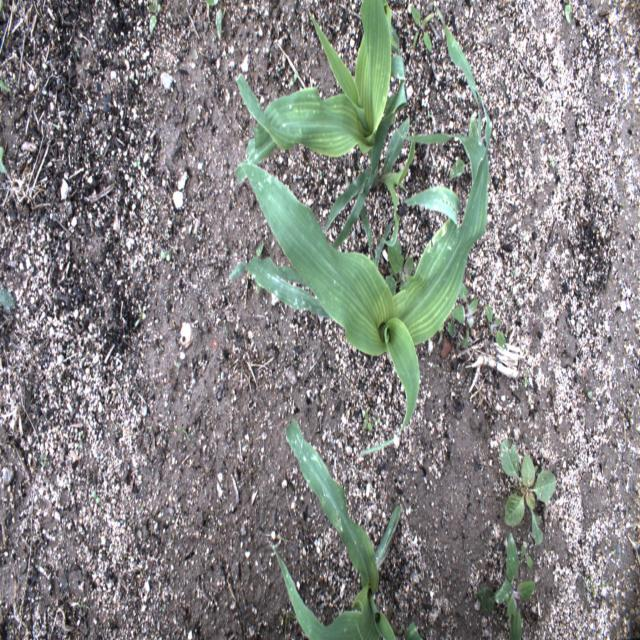crop: (228, 1, 492, 454), (234, 1, 417, 256), (270, 418, 423, 639)
weed: (475, 533, 535, 639), (499, 440, 556, 544), (449, 114, 492, 182), (451, 277, 478, 350), (382, 238, 413, 299), (410, 6, 434, 56), (484, 304, 508, 350), (579, 571, 612, 599), (204, 0, 221, 40), (436, 312, 456, 345), (278, 609, 298, 638), (255, 243, 264, 295), (149, 0, 161, 35), (168, 426, 191, 443), (385, 604, 397, 634), (0, 288, 15, 311), (134, 303, 147, 328), (146, 425, 158, 451), (562, 0, 574, 25), (521, 545, 533, 570), (74, 601, 90, 617), (0, 77, 11, 95), (0, 146, 7, 174), (363, 412, 372, 433), (160, 250, 171, 262), (524, 369, 530, 388), (130, 71, 138, 85), (548, 154, 555, 170), (39, 454, 46, 469), (92, 490, 100, 503), (290, 74, 297, 86), (510, 267, 516, 279), (74, 44, 79, 58), (133, 160, 141, 168), (356, 161, 362, 171), (268, 51, 273, 63), (373, 416, 380, 424), (398, 624, 403, 634), (195, 230, 200, 240), (77, 595, 82, 605), (277, 65, 284, 72), (432, 363, 440, 369), (319, 169, 323, 181), (410, 507, 418, 513), (160, 137, 164, 149), (261, 519, 266, 528), (115, 428, 122, 434), (76, 444, 80, 454), (12, 90, 16, 98), (160, 606, 164, 613)
